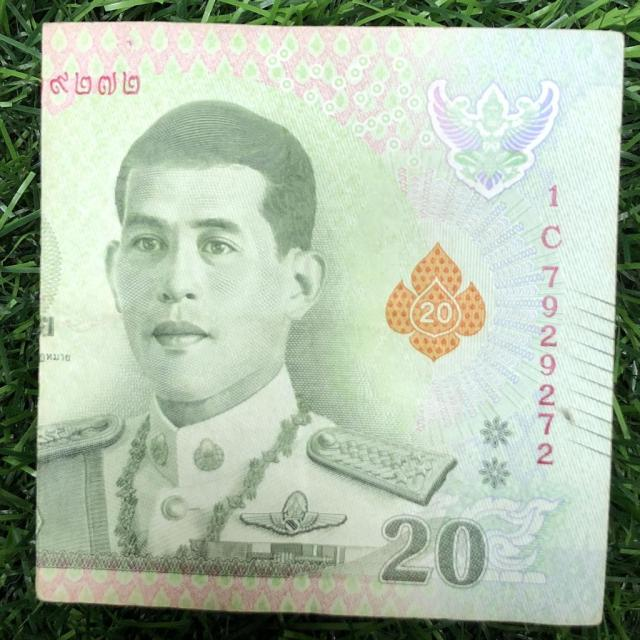THAI20: (36, 22, 623, 625)
